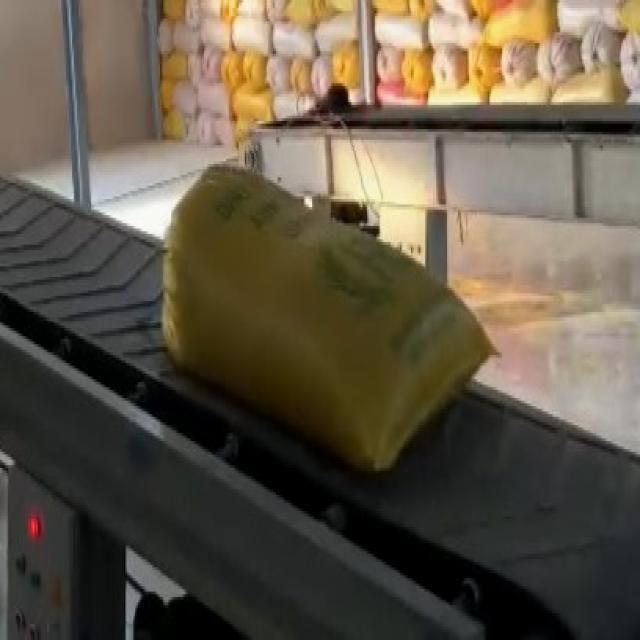gunny_bag: (162, 167, 493, 469)
